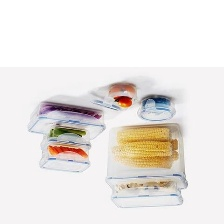plastic_box: (99, 119, 192, 213), (23, 97, 109, 144), (34, 119, 96, 179), (84, 78, 142, 115), (132, 91, 179, 126)
